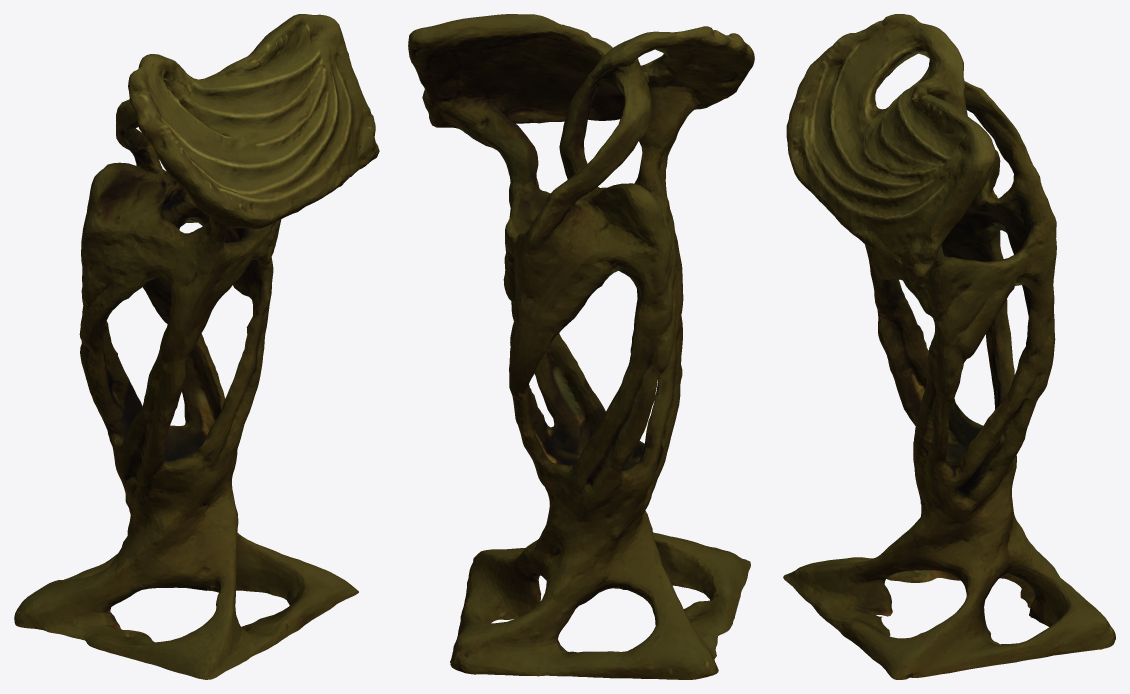
Rendered from wlcvinelectern-edited (1).glb.
3 renders of one model, left to right at view 1: azimuth 30°, elevation 25°; view 2: azimuth 150°, elevation 25°; view 3: azimuth 270°, elevation 25°, orthographic. The views are drawn at different scales.
Visible parts, largest first — view 1: wlcvinelectern; view 2: wlcvinelectern; view 3: wlcvinelectern.
Part boxes in pixels (bbox=[...]): wlcvinelectern: bbox=[14, 14, 379, 679]; wlcvinelectern: bbox=[408, 14, 754, 679]; wlcvinelectern: bbox=[783, 14, 1115, 679].
Size of the model in its own units: 0.2933 by 0.5022 by 0.2667.
1 material, 1 textured.
